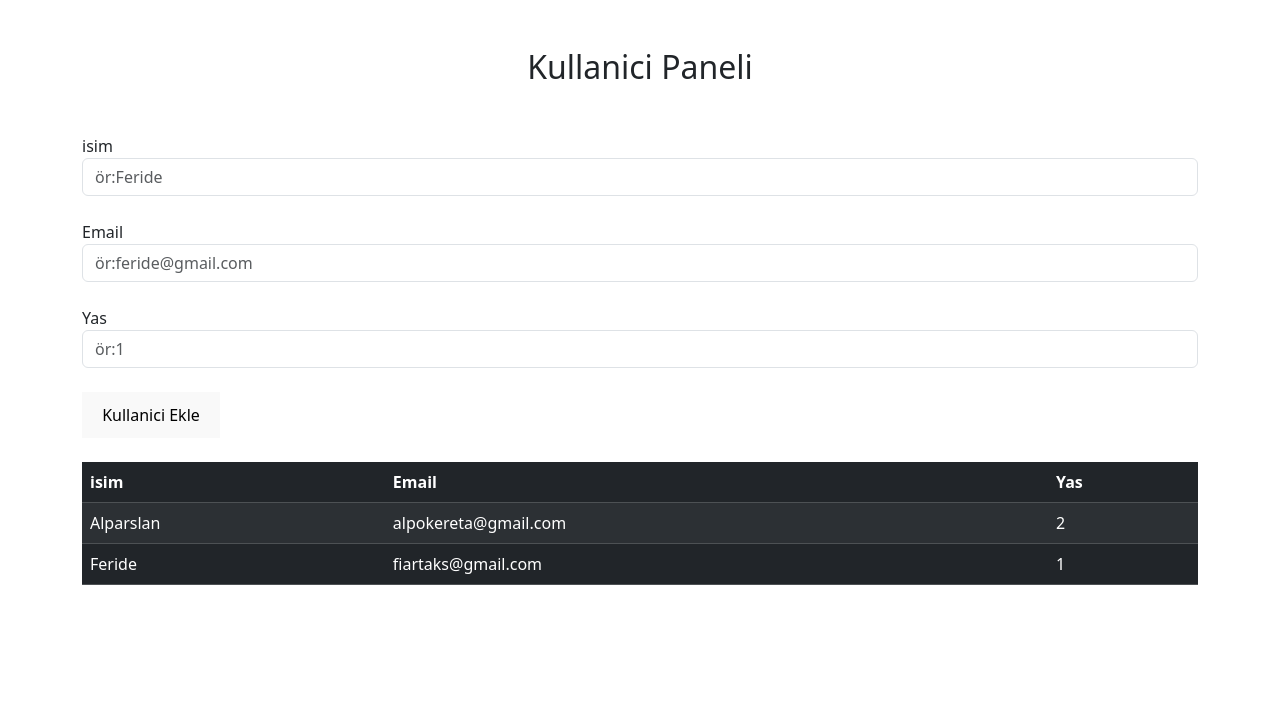
it: Uygulama dogru sekilde calisyor mu?
// inputlari doldur
Type "Alparslann" into the field labelled "isim" at (640, 177), box [82,158,1198,196]
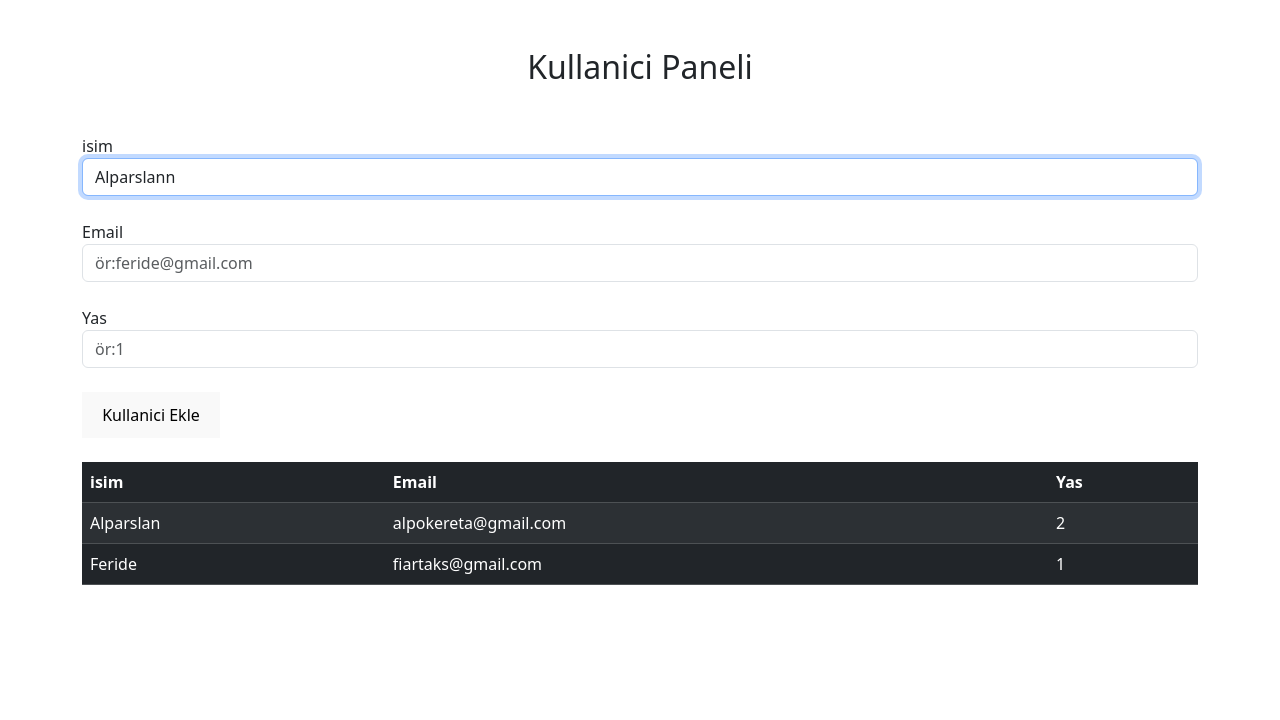
Type "alparslann@gmail.com" into the field labelled "Email" at (640, 263), box [82,244,1198,282]
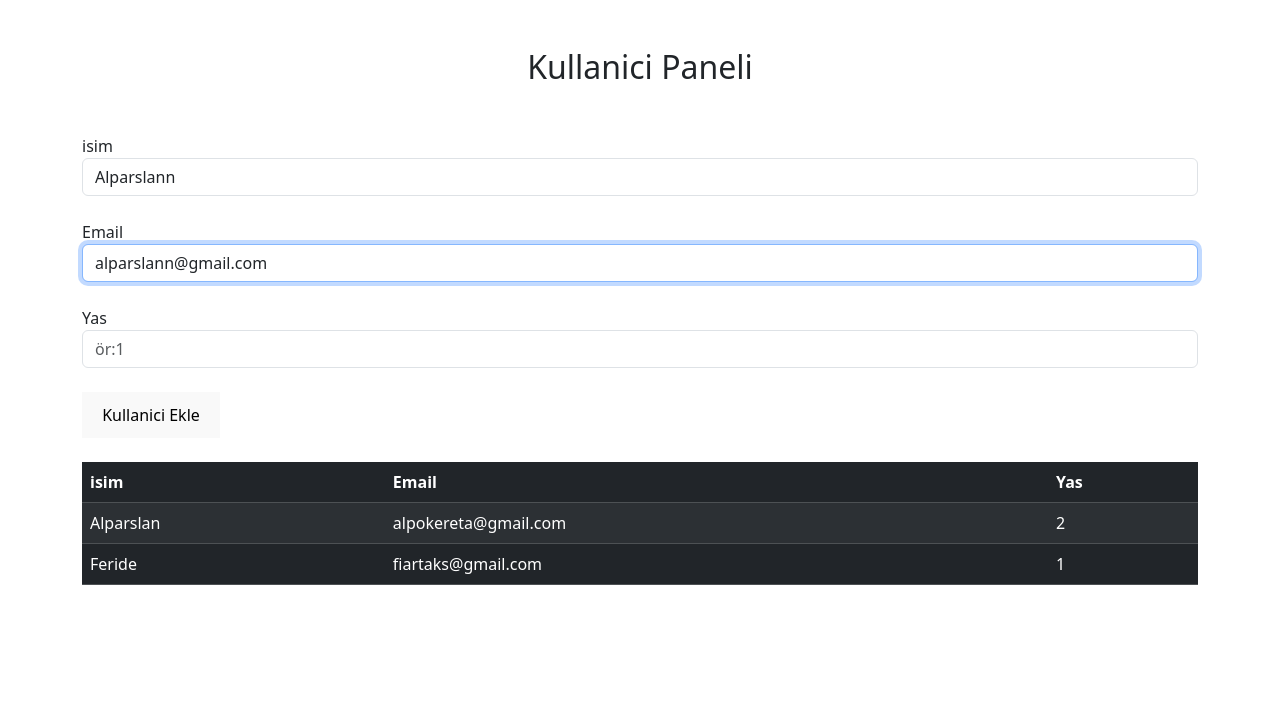
Type "2" into the number field labelled "Yas" at (640, 349), box [82,330,1198,368]
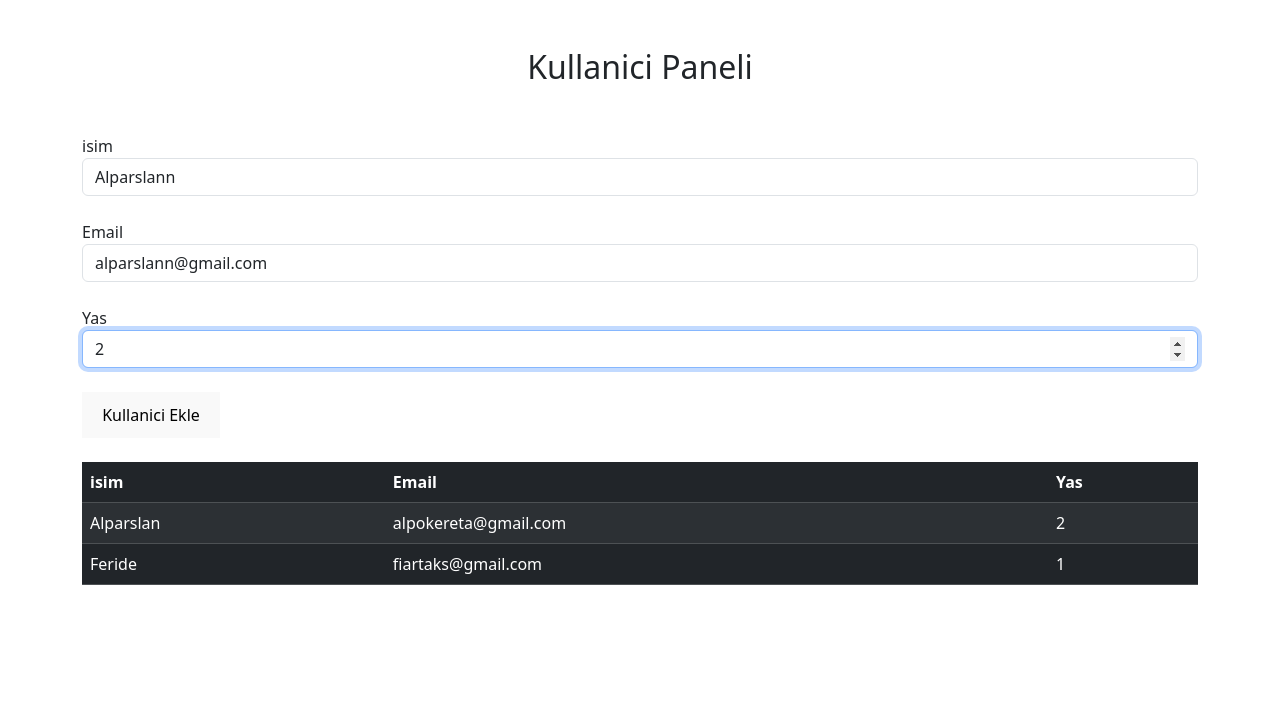
// kullaniciekle butonunna tikla
Click the button "Kullanici Ekle" at (151, 415), box [82,392,220,438]
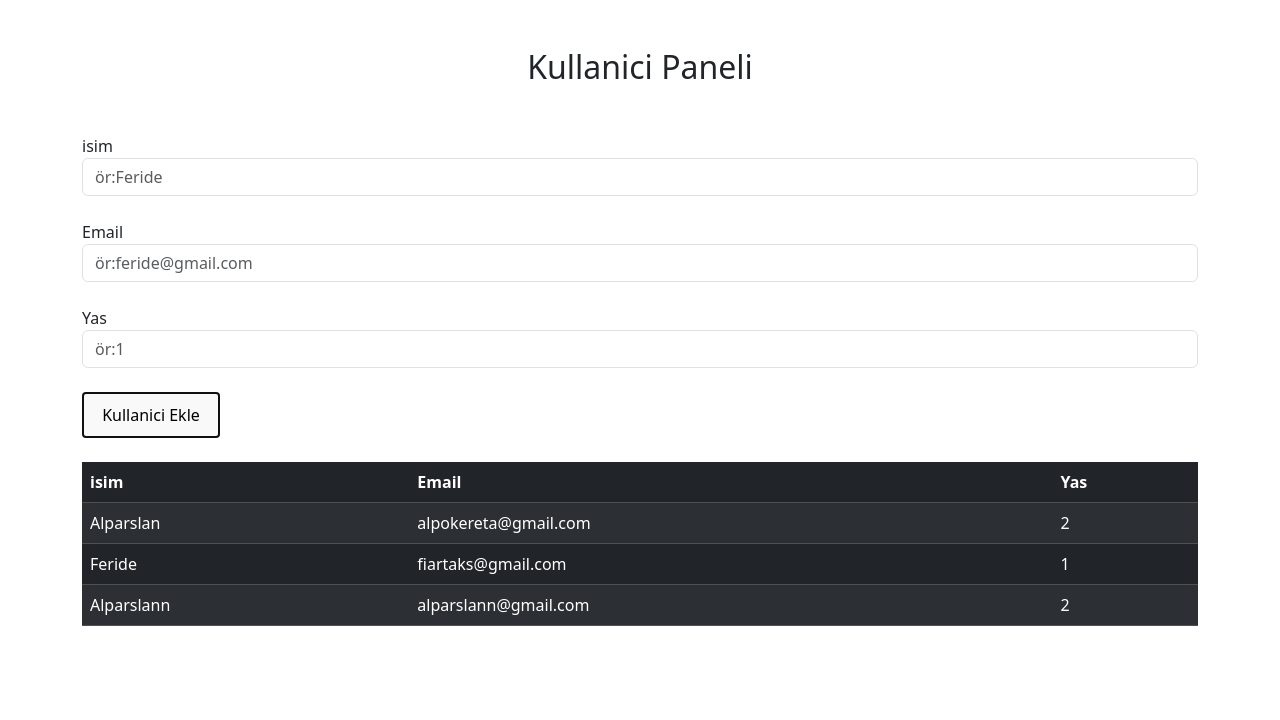
Check: the cell "1" is shown, box [1052,543,1198,584]
Check: the cell "Alparslann" is shown, box [82,584,409,625]
Check: the cell "alparslann@gmail.com" is shown, box [409,584,1052,625]
